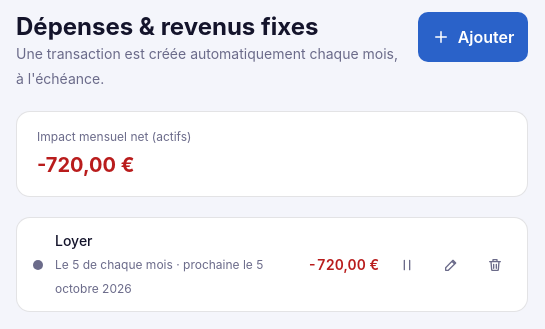
Scenario: RecurringPage — pause › met en pause et annonce le résultat
Click the button named "Mettre en pause Loyer". click: (407, 264)
box: 391,248 -> 423,280
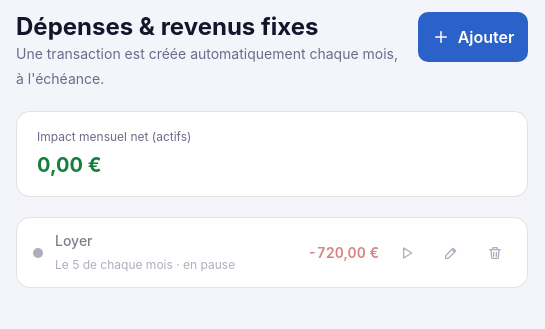
Expected: the text "en pause" is shown, 176,257 -> 235,272
